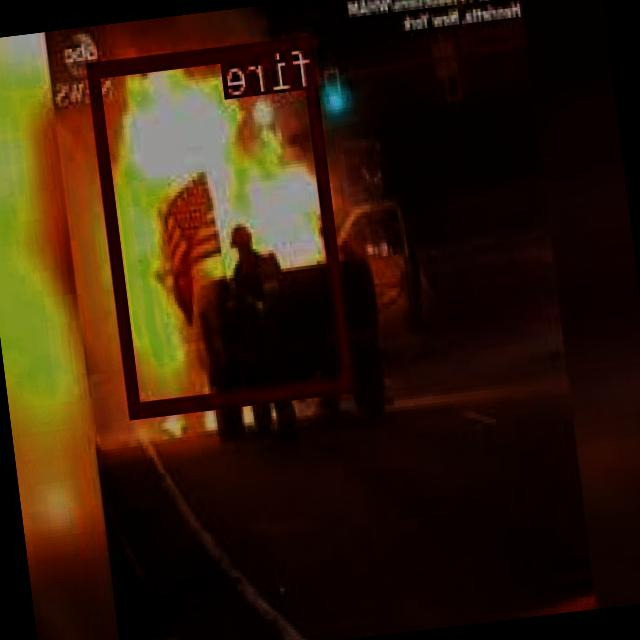fire: (90, 34, 355, 414)
